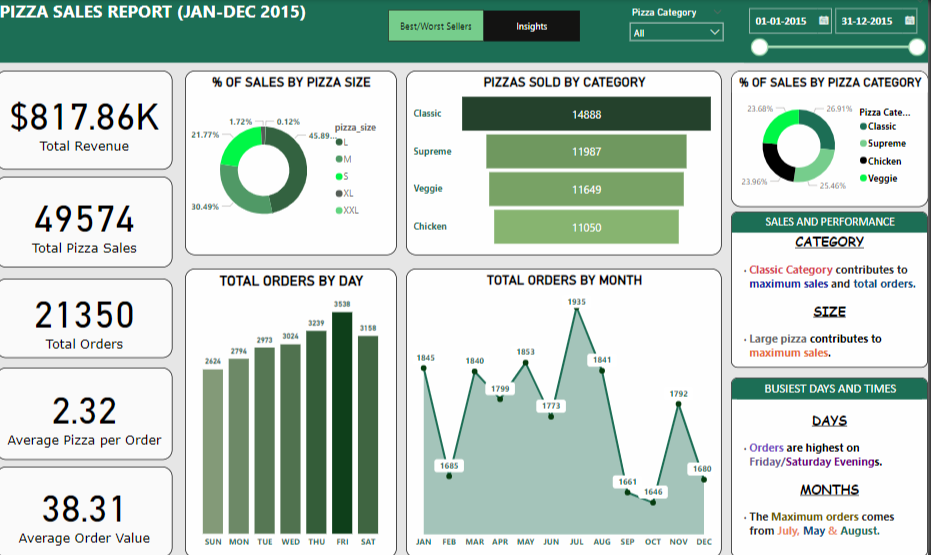

The dashboard page shown, as its layout file describes it:
{"tool":"powerbi","page":{"name":"Insights","canvas":[1373,822],"ordinal":0},"visuals":[{"type":"card","title":"SUM OF SALES","fields":{"Values":["pizza sales details.Total Revenue"]},"box":[0,104.8,259.8,146.2],"z":0},{"type":"card","title":"TOTAL PIZZA SALES","fields":{"Values":["pizza sales details.total_pizzas_sold"]},"box":[0,261.3,259.8,134.3],"z":1000},{"type":"card","title":"TOTAL ORDERS","fields":{"Values":["pizza sales details.total_orders"]},"box":[0,410.4,259.8,116.6],"z":2000},{"type":"card","title":"AVERAGE PIZZA PER ORDER","fields":{"Values":["pizza sales details.average_pizzas_per_order"]},"box":[0,541.8,259.8,135.8],"z":3000},{"type":"card","title":"AVERAGE ORDER VALUE","fields":{"Values":["pizza sales details.Average_order_value"]},"box":[0,688,259.8,134.3],"z":4000},{"type":"textbox","title":"PIZZA SALES REPORT   (JAN-DEC 2015)","box":[0,0,1373,93],"z":5000},{"type":"columnChart","title":"TOTAL ORDERS BY DAY","fields":{"Y":["pizza sales details.total_orders"],"Category":["pizza sales details.order_day"]},"box":[279,395.7,311.5,426.7],"z":6000},{"type":"areaChart","title":"TOTAL ORDERS BY MONTH","fields":{"Y":["pizza sales details.total_orders"],"Category":["pizza sales details.order_month"]},"box":[603.8,395.7,465,426.7],"z":7000},{"type":"donutChart","title":"% OF SALES BY PIZZA CATEGORY","fields":{"Category":["pizza sales details.pizza_category"],"Y":["pizza sales details.sum_of_sales"]},"box":[1082.2,104.8,290.8,200.8],"z":8000},{"type":"donutChart","title":"% OF SALES BY PIZZA SIZE","fields":{"Y":["pizza sales details.sum_of_sales"],"Category":["pizza sales details.pizza_size"]},"box":[279,104.8,311.5,271.6],"z":9000},{"type":"funnel","title":"PIZZAS SOLD BY CATEGORY","fields":{"Y":["pizza sales details.total_pizzas_sold"],"Category":["pizza sales details.pizza_category"]},"box":[603.8,104.8,465,271.6],"z":10000},{"type":"slicer","fields":{"Values":["pizza sales details.pizza_category"]},"box":[924.2,5.9,158,63.5],"z":11000},{"type":"slicer","fields":{"Values":["pizza sales details.order_date"]},"box":[1101.4,0,271.6,93],"z":12000},{"type":"textbox","title":"BUSIEST DAYS AND TIMES","box":[1082.7,556.8,290.2,265.2],"z":13000},{"type":"textbox","title":"SALES  AND PERFORMANCE","box":[1082.7,312.3,290.2,229.8],"z":14000},{"type":"pageNavigator","box":[719,16.2,141.7,45.8],"z":15000},{"type":"pageNavigator","box":[577.3,14.8,141.7,47.2],"z":16000}]}

Visuals, with their boxes in screenshot pixels (x1, y1, x2, y2), scaled from the page's 1373x822 canvas onto the 931x555 screenshot:
"SUM OF SALES" card: {"left": 0, "top": 71, "right": 176, "bottom": 169}
"TOTAL PIZZA SALES" card: {"left": 0, "top": 176, "right": 176, "bottom": 267}
"TOTAL ORDERS" card: {"left": 0, "top": 277, "right": 176, "bottom": 356}
"AVERAGE PIZZA PER ORDER" card: {"left": 0, "top": 366, "right": 176, "bottom": 458}
"AVERAGE ORDER VALUE" card: {"left": 0, "top": 465, "right": 176, "bottom": 554}
"PIZZA SALES REPORT   (JAN-DEC 2015)" textbox: {"left": 0, "top": 0, "right": 930, "bottom": 63}
"TOTAL ORDERS BY DAY" columnChart: {"left": 189, "top": 267, "right": 400, "bottom": 554}
"TOTAL ORDERS BY MONTH" areaChart: {"left": 409, "top": 267, "right": 725, "bottom": 554}
"% OF SALES BY PIZZA CATEGORY" donutChart: {"left": 734, "top": 71, "right": 930, "bottom": 206}
"% OF SALES BY PIZZA SIZE" donutChart: {"left": 189, "top": 71, "right": 400, "bottom": 254}
"PIZZAS SOLD BY CATEGORY" funnel: {"left": 409, "top": 71, "right": 725, "bottom": 254}
slicer - pizza sales details.pizza_category: {"left": 627, "top": 4, "right": 734, "bottom": 47}
slicer - pizza sales details.order_date: {"left": 747, "top": 0, "right": 930, "bottom": 63}
"BUSIEST DAYS AND TIMES" textbox: {"left": 734, "top": 376, "right": 930, "bottom": 554}
"SALES  AND PERFORMANCE" textbox: {"left": 734, "top": 211, "right": 930, "bottom": 366}
pageNavigator: {"left": 488, "top": 11, "right": 584, "bottom": 42}
pageNavigator: {"left": 391, "top": 10, "right": 488, "bottom": 42}
